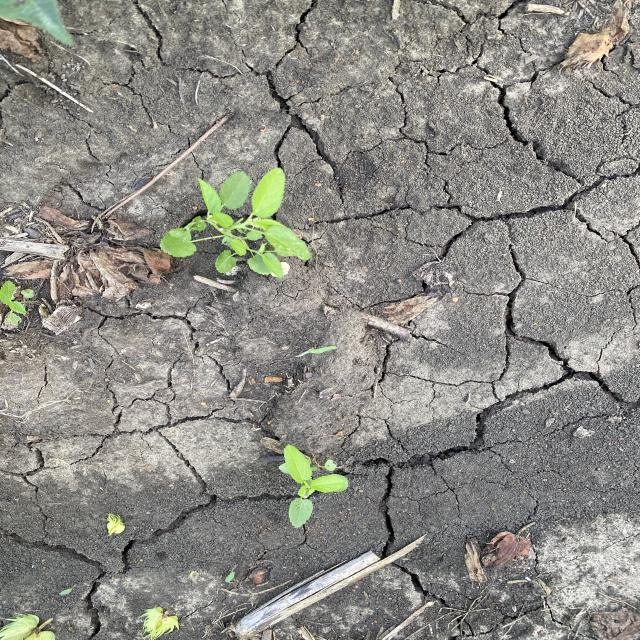PricklySida: (156, 165, 315, 280), (277, 444, 352, 530), (1, 280, 41, 315)
